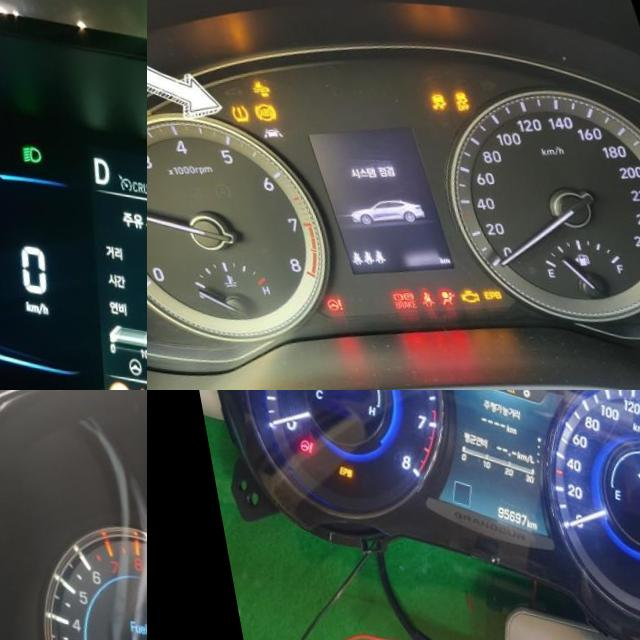LaneCenteringOff: (251, 121, 274, 136)
Low beam: (12, 140, 35, 161)
